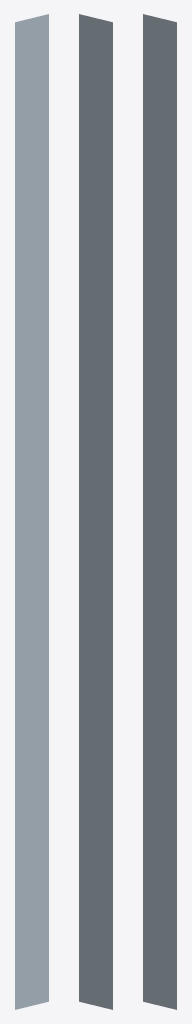
File: HuTao_ParamitaPapilioState_ButterflyShortTrail.fbx
The picture shows the model from 3 angles, left to right: view 1: azimuth 30°, elevation 25°; view 2: azimuth 150°, elevation 25°; view 3: azimuth 330°, elevation 25°; orthographic projection.
Parts seen in each view (by area): view 1: PART_ButterflyActualCurveTrail; view 2: PART_ButterflyActualCurveTrail; view 3: PART_ButterflyActualCurveTrail.
Boxes of the visible parts, x1=… form: PART_ButterflyActualCurveTrail: x1=15, y1=14, x2=48, y2=1009; PART_ButterflyActualCurveTrail: x1=79, y1=14, x2=112, y2=1009; PART_ButterflyActualCurveTrail: x1=143, y1=14, x2=176, y2=1009.
Size of the model in its own units: 3.6 by 100 by 1.63e-05.
